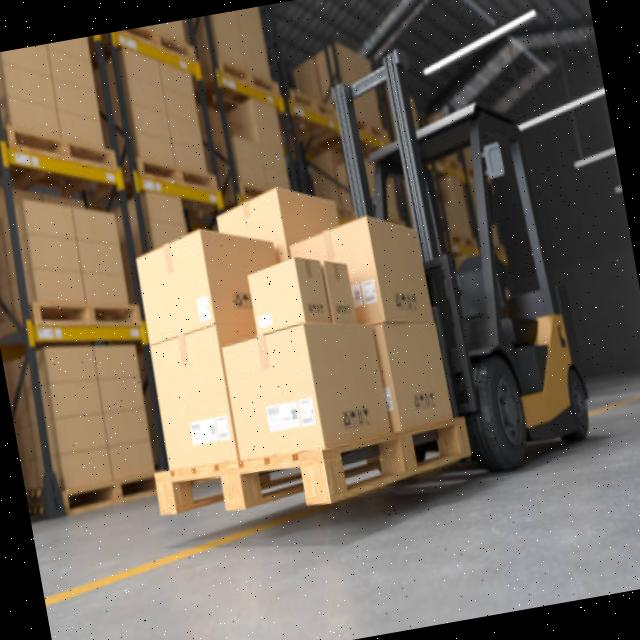Wooden-Pallets: (155, 414, 471, 518), (3, 112, 122, 178), (28, 291, 143, 331)
